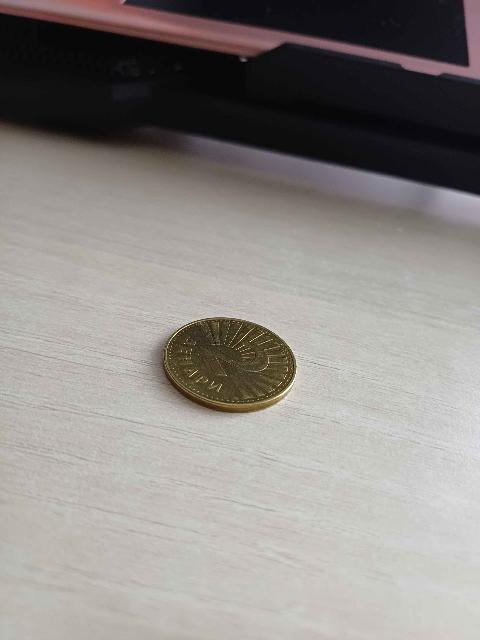2_coin: (164, 318, 296, 412)
